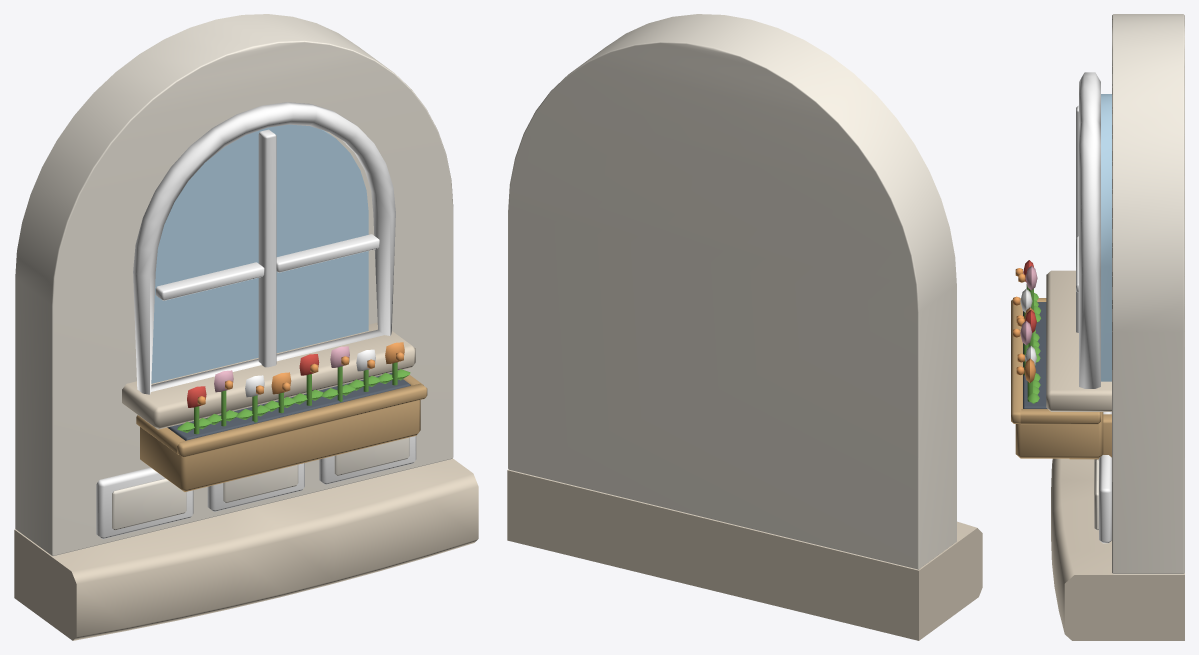
The model's file is hub_infill.glb.
3 renders of one model, left to right at view 1: azimuth 30°, elevation 25°; view 2: azimuth 150°, elevation 25°; view 3: azimuth 270°, elevation 25°, orthographic. The views are drawn at different scales.
Parts seen in each view (by area): view 1: hub_infill_structure; view 2: hub_infill_structure; view 3: hub_infill_structure.
Part boxes in pixels (x1,y1,x2,y2): hub_infill_structure: [14, 14, 478, 640]; hub_infill_structure: [507, 14, 982, 640]; hub_infill_structure: [1011, 14, 1184, 640].
Size of the model in its own units: 1.84 by 2.32 by 0.7145.
